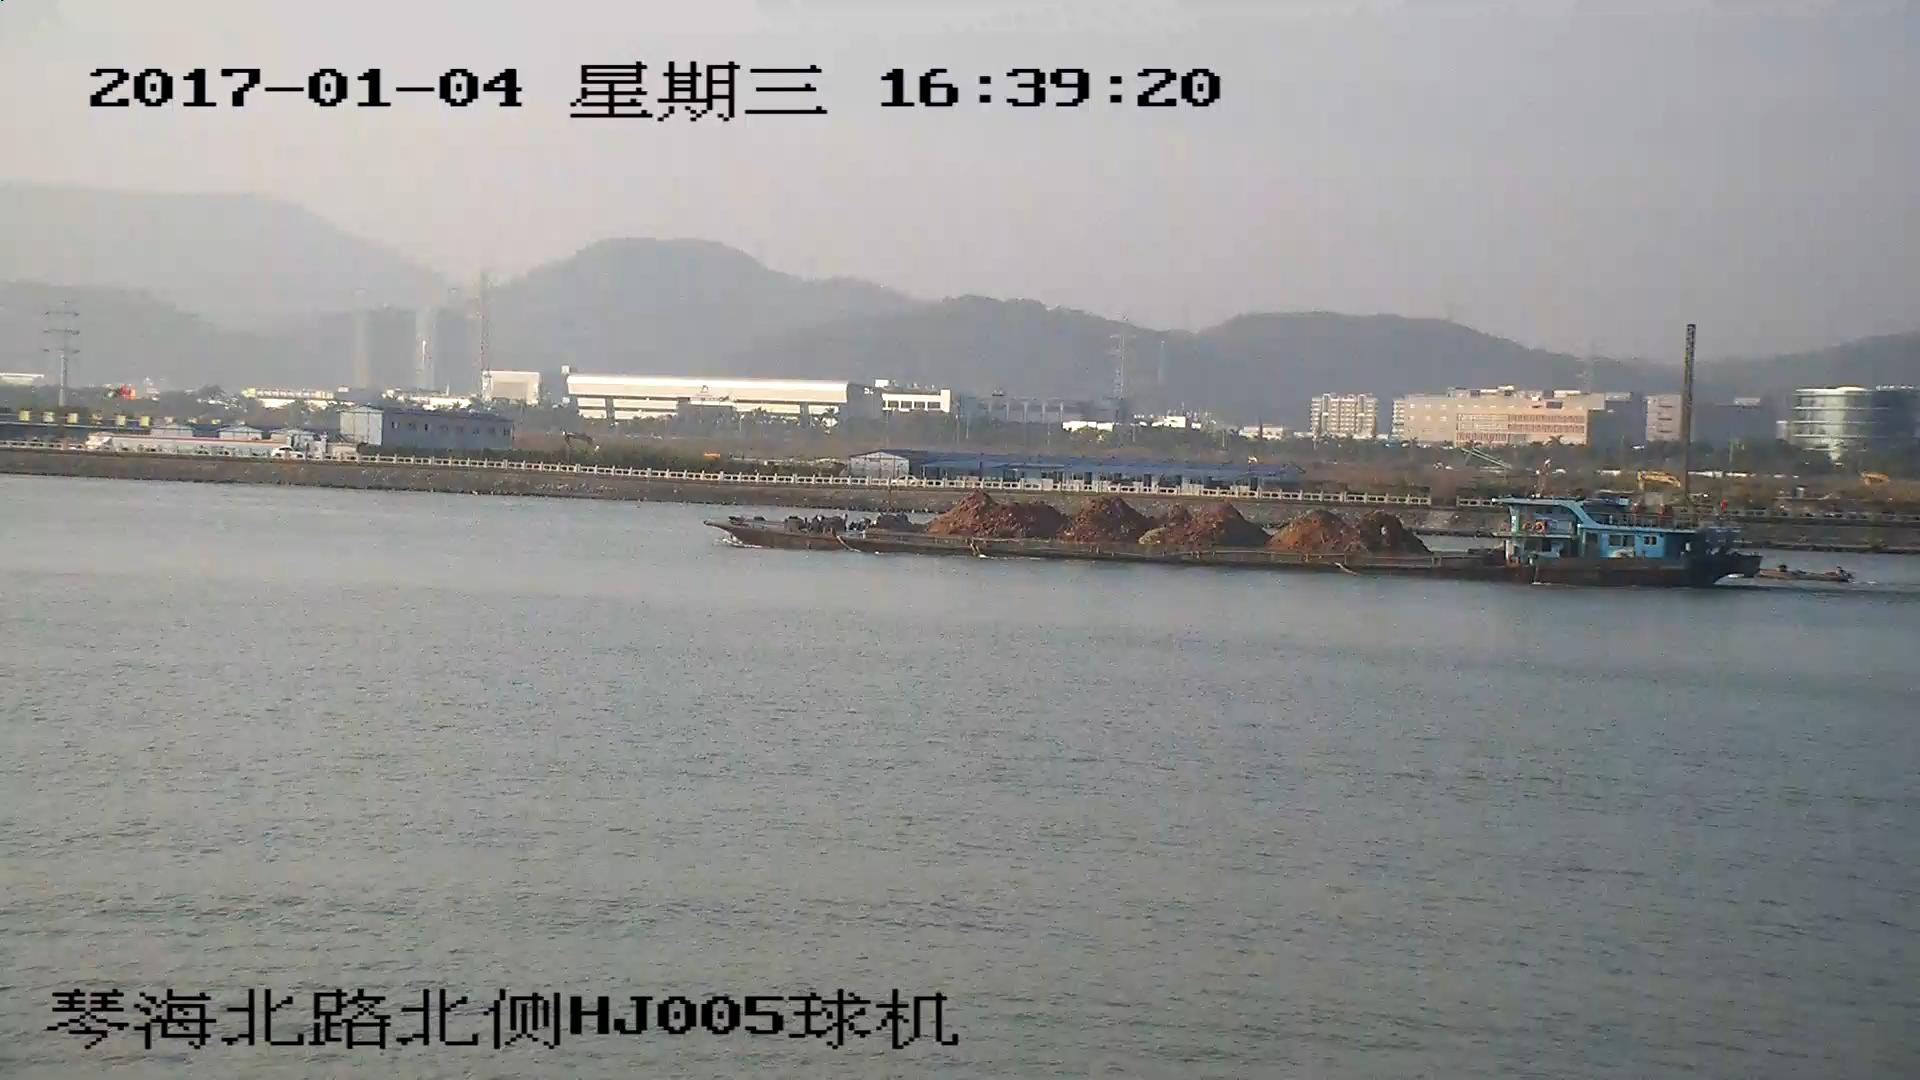ore carrier: (708, 494, 1766, 591)
